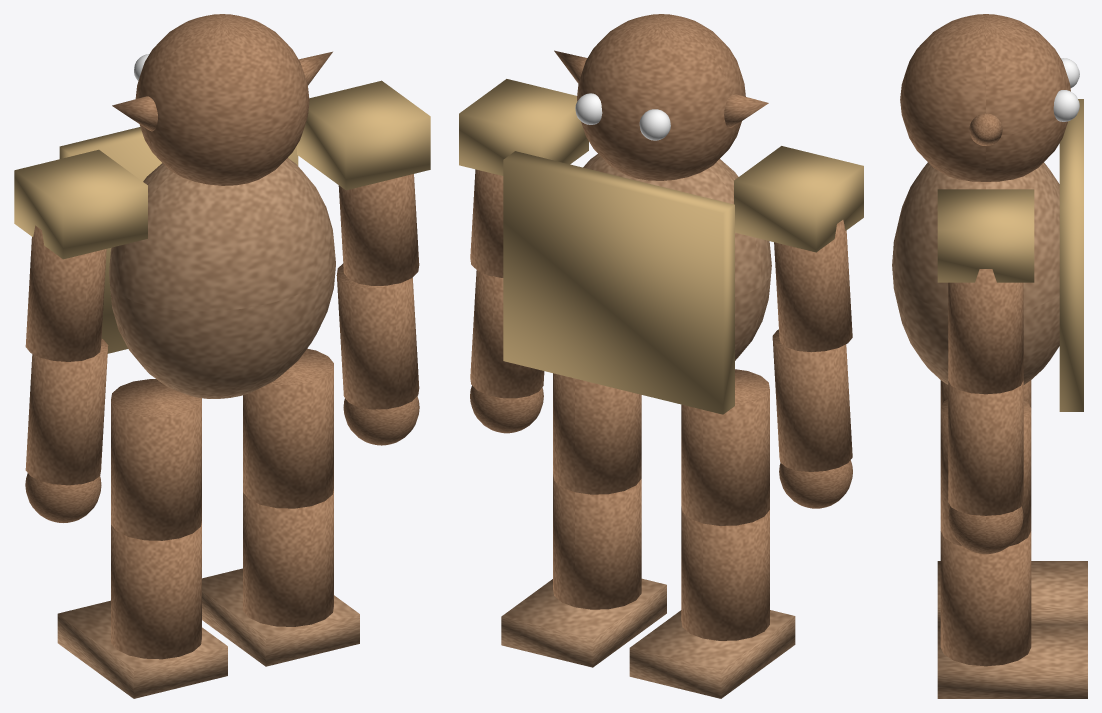
The model's file is goblin-champion.glb.
3 renders of one model, left to right at view 1: azimuth 30°, elevation 25°; view 2: azimuth 150°, elevation 25°; view 3: azimuth 270°, elevation 25°, orthographic. The views are drawn at different scales.
Parts seen in each view (by area): view 1: Torso, Head, ThighL, ThighR, Pauldron, Pauldron.001, ShinR, ShinL, ForearmR, ForearmL, UpperArmL, UpperArmR (+6 smaller); view 2: Chestplate, Head, ThighL, Pauldron, ShinR, ShinL, ThighR, ForearmL, Pauldron.001, FootL, FootR, UpperArmL (+8 smaller); view 3: Head, Torso, ShinR, ForearmR, Pauldron.001, UpperArmR, FootR, Chestplate, FootL, ThighR, HandR, Ear.001 (+3 smaller).
Boxes of the visible parts, left/top/right/bottom form: Torso: left=109, top=158, right=335, bottom=398; Head: left=135, top=14, right=309, bottom=185; ThighL: left=111, top=379, right=201, bottom=540; ThighR: left=243, top=348, right=333, bottom=508; Pauldron: left=14, top=149, right=147, bottom=259; Pauldron.001: left=297, top=80, right=430, bottom=190; ShinR: left=243, top=489, right=333, bottom=626; ShinL: left=111, top=521, right=201, bottom=659; ForearmR: left=336, top=263, right=419, bottom=409; ForearmL: left=25, top=339, right=108, bottom=485; UpperArmL: left=25, top=225, right=106, bottom=361; UpperArmR: left=338, top=174, right=419, bottom=285; Chestplate: left=503, top=151, right=734, bottom=414; Head: left=577, top=14, right=745, bottom=180; ThighL: left=681, top=369, right=769, bottom=525; Pauldron: left=734, top=146, right=863, bottom=252; ShinR: left=553, top=474, right=641, bottom=609; ShinL: left=681, top=506, right=769, bottom=640; ThighR: left=553, top=373, right=641, bottom=494; ForearmL: left=772, top=329, right=852, bottom=471; Pauldron.001: left=459, top=79, right=588, bottom=175; FootL: left=629, top=610, right=795, bottom=698; FootR: left=501, top=578, right=666, bottom=667; UpperArmL: left=774, top=220, right=852, bottom=352; Head: left=900, top=14, right=1070, bottom=181; Torso: left=892, top=162, right=1059, bottom=384; ShinR: left=940, top=531, right=1031, bottom=666; ForearmR: left=948, top=381, right=1023, bottom=515; Pauldron.001: left=937, top=189, right=1034, bottom=282; UpperArmR: left=948, top=269, right=1023, bottom=394; FootR: left=937, top=624, right=1087, bottom=698; Chestplate: left=1059, top=99, right=1083, bottom=411; FootL: left=937, top=561, right=1087, bottom=624; ThighR: left=940, top=399, right=1031, bottom=546; HandR: left=948, top=506, right=1023, bottom=554; Ear.001: left=969, top=113, right=1002, bottom=145.
Bounding box in the file's own units: 0.6367 × 1 × 0.2852.
Materials: 4 (2 with a texture image).
